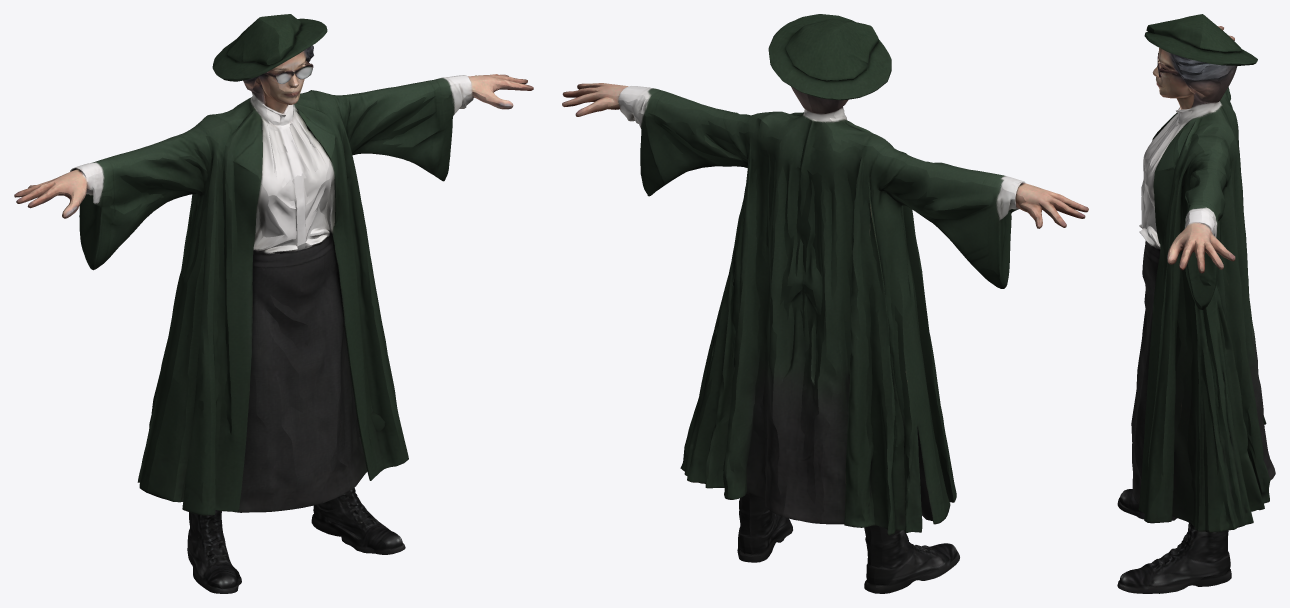
3 renders of one model, left to right at view 1: azimuth 30°, elevation 25°; view 2: azimuth 150°, elevation 25°; view 3: azimuth 270°, elevation 25°, orthographic. The views are drawn at different scales.
Visible parts, largest first — view 1: world; view 2: world; view 3: world.
Boxes of the visible parts, box(x1,y1,x2,y2) form: world: box(14, 14, 533, 593); world: box(562, 14, 1088, 593); world: box(1117, 14, 1275, 593).
Size of the model in its own units: 1 by 0.993 by 0.2691.
Materials: 1 (1 with a texture image).
